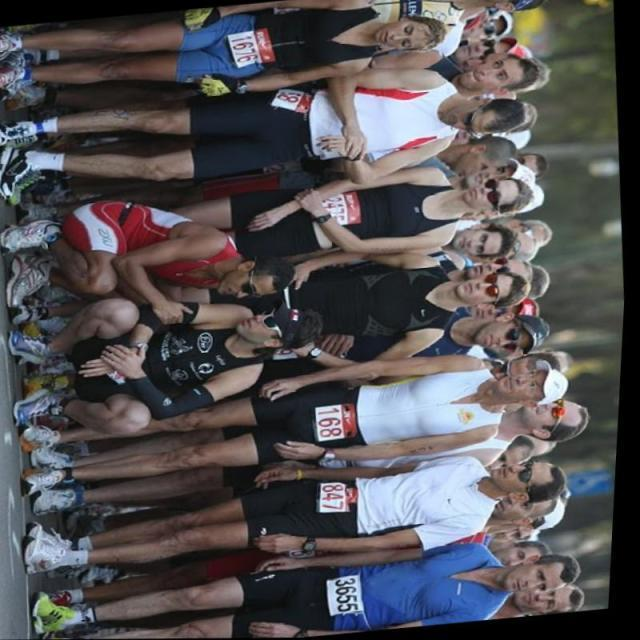dorsal: (226, 26, 276, 72), (328, 572, 374, 618), (319, 480, 366, 518), (318, 404, 362, 444), (323, 192, 362, 226), (270, 88, 316, 115)
